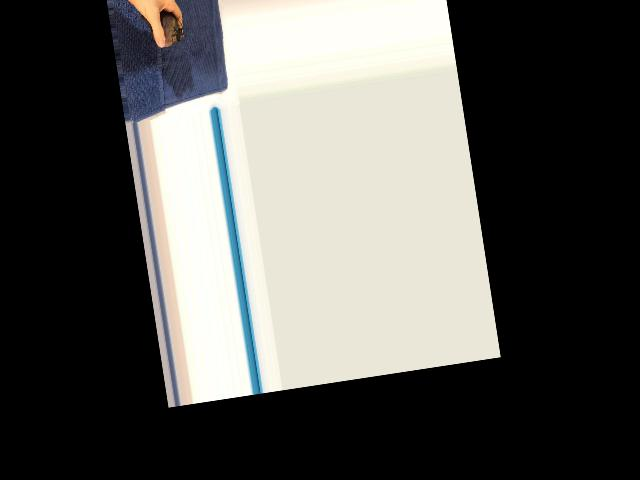beet: (136, 8, 185, 51)
